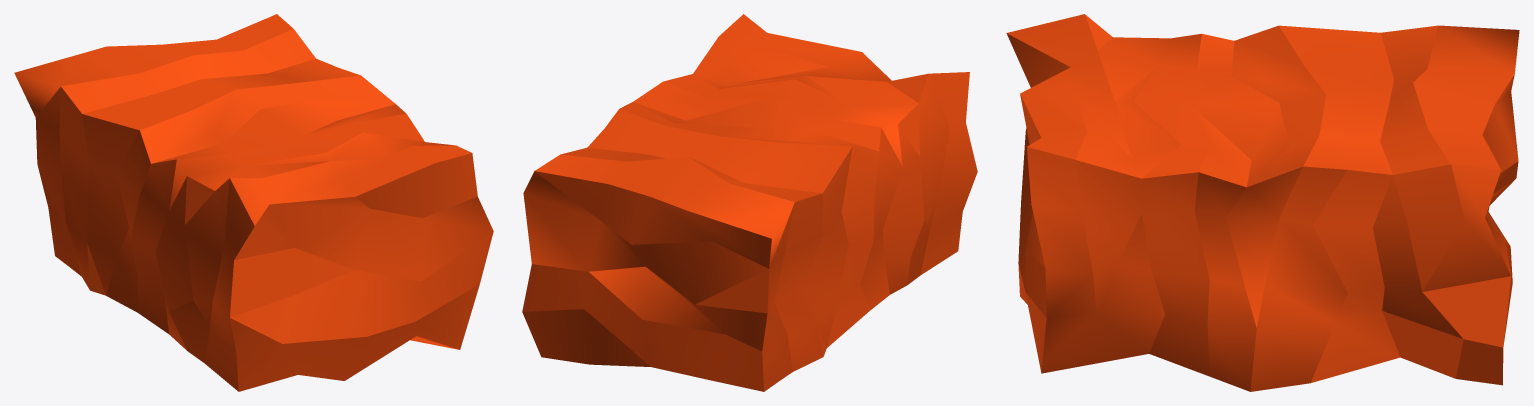
File: Hay_3.fbx
3 views of the same model, side by side, from view 1: azimuth 30°, elevation 25°; view 2: azimuth 150°, elevation 25°; view 3: azimuth 270°, elevation 25° (orthographic). The views are drawn at different scales.
Parts seen in each view (by area): view 1: Hay_3; view 2: Hay_3; view 3: Hay_3.
Part boxes in pixels (x1,y1,x2,y2): Hay_3: (14,14,493,391); Hay_3: (522,14,977,391); Hay_3: (1006,14,1519,391).
Size of the model in its own units: 23 by 17.17 by 31.82.
